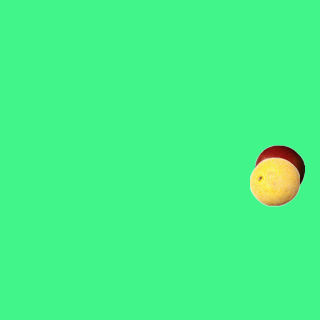Apple Braeburn: (254, 144, 304, 194)
Cantaloupe 1: (249, 156, 299, 206)
